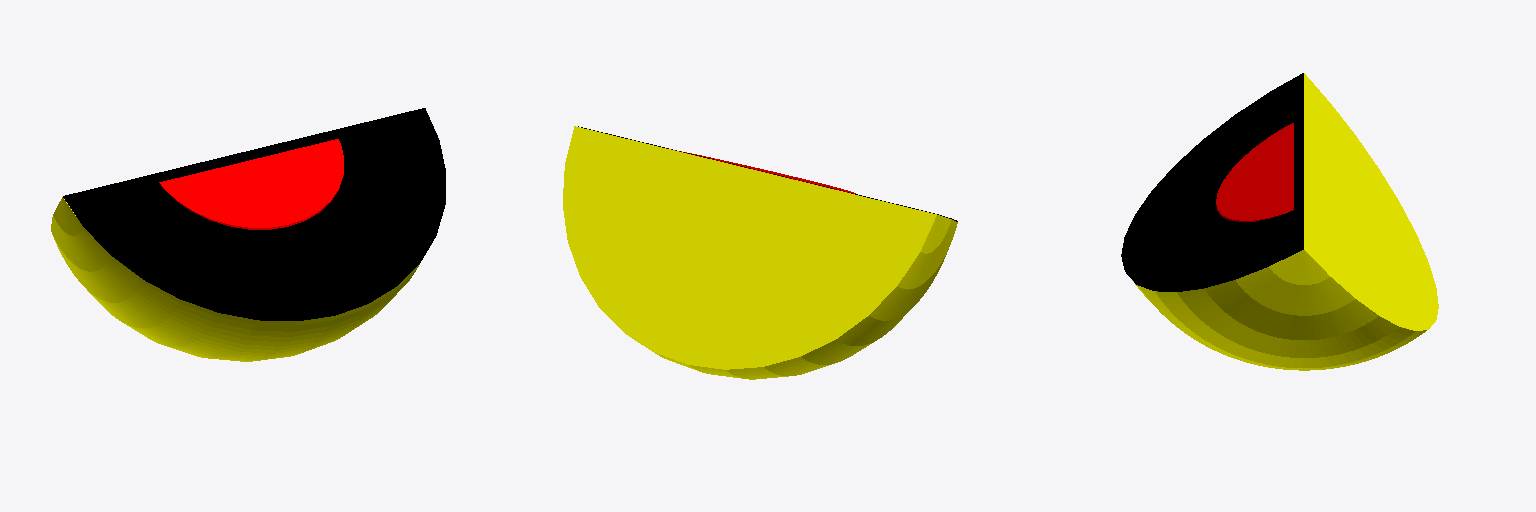
3 renders of one model, left to right at view 1: azimuth 30°, elevation 25°; view 2: azimuth 150°, elevation 25°; view 3: azimuth 270°, elevation 25°, orthographic.
Visible parts, largest first — view 1: Sphere05, Sphere01, Sphere06; view 2: Sphere01; view 3: Sphere01, Sphere05, Sphere06.
Boxes of the visible parts, x1,y1,x2,y2 form: Sphere05: [63, 108, 445, 320]; Sphere01: [51, 197, 431, 361]; Sphere06: [159, 139, 343, 229]; Sphere01: [563, 126, 957, 379]; Sphere01: [1132, 73, 1438, 370]; Sphere05: [1121, 73, 1303, 291]; Sphere06: [1216, 123, 1293, 221].
Size of the model in its own units: 120 by 60.2 by 91.05.
3 materials, 3 textured.